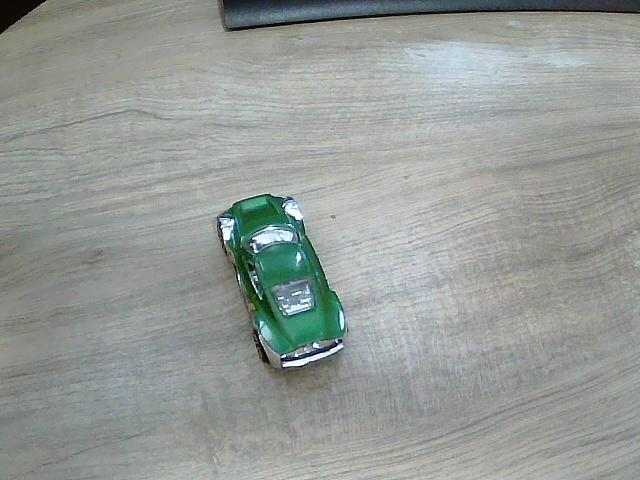Carro: (218, 195, 348, 371)
